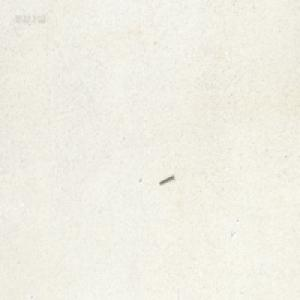Bolt: (158, 172, 174, 184)
